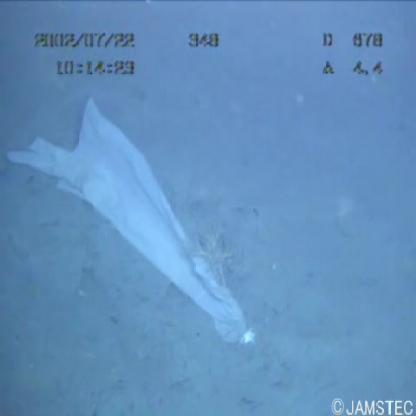Bio: (189, 228, 249, 291)
Rác: (2, 87, 262, 356)
